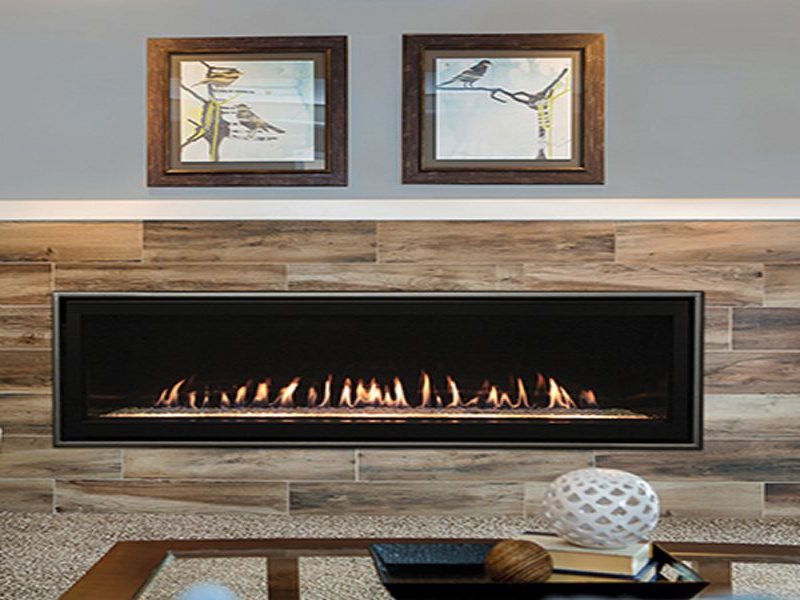fire: (147, 373, 599, 407)
